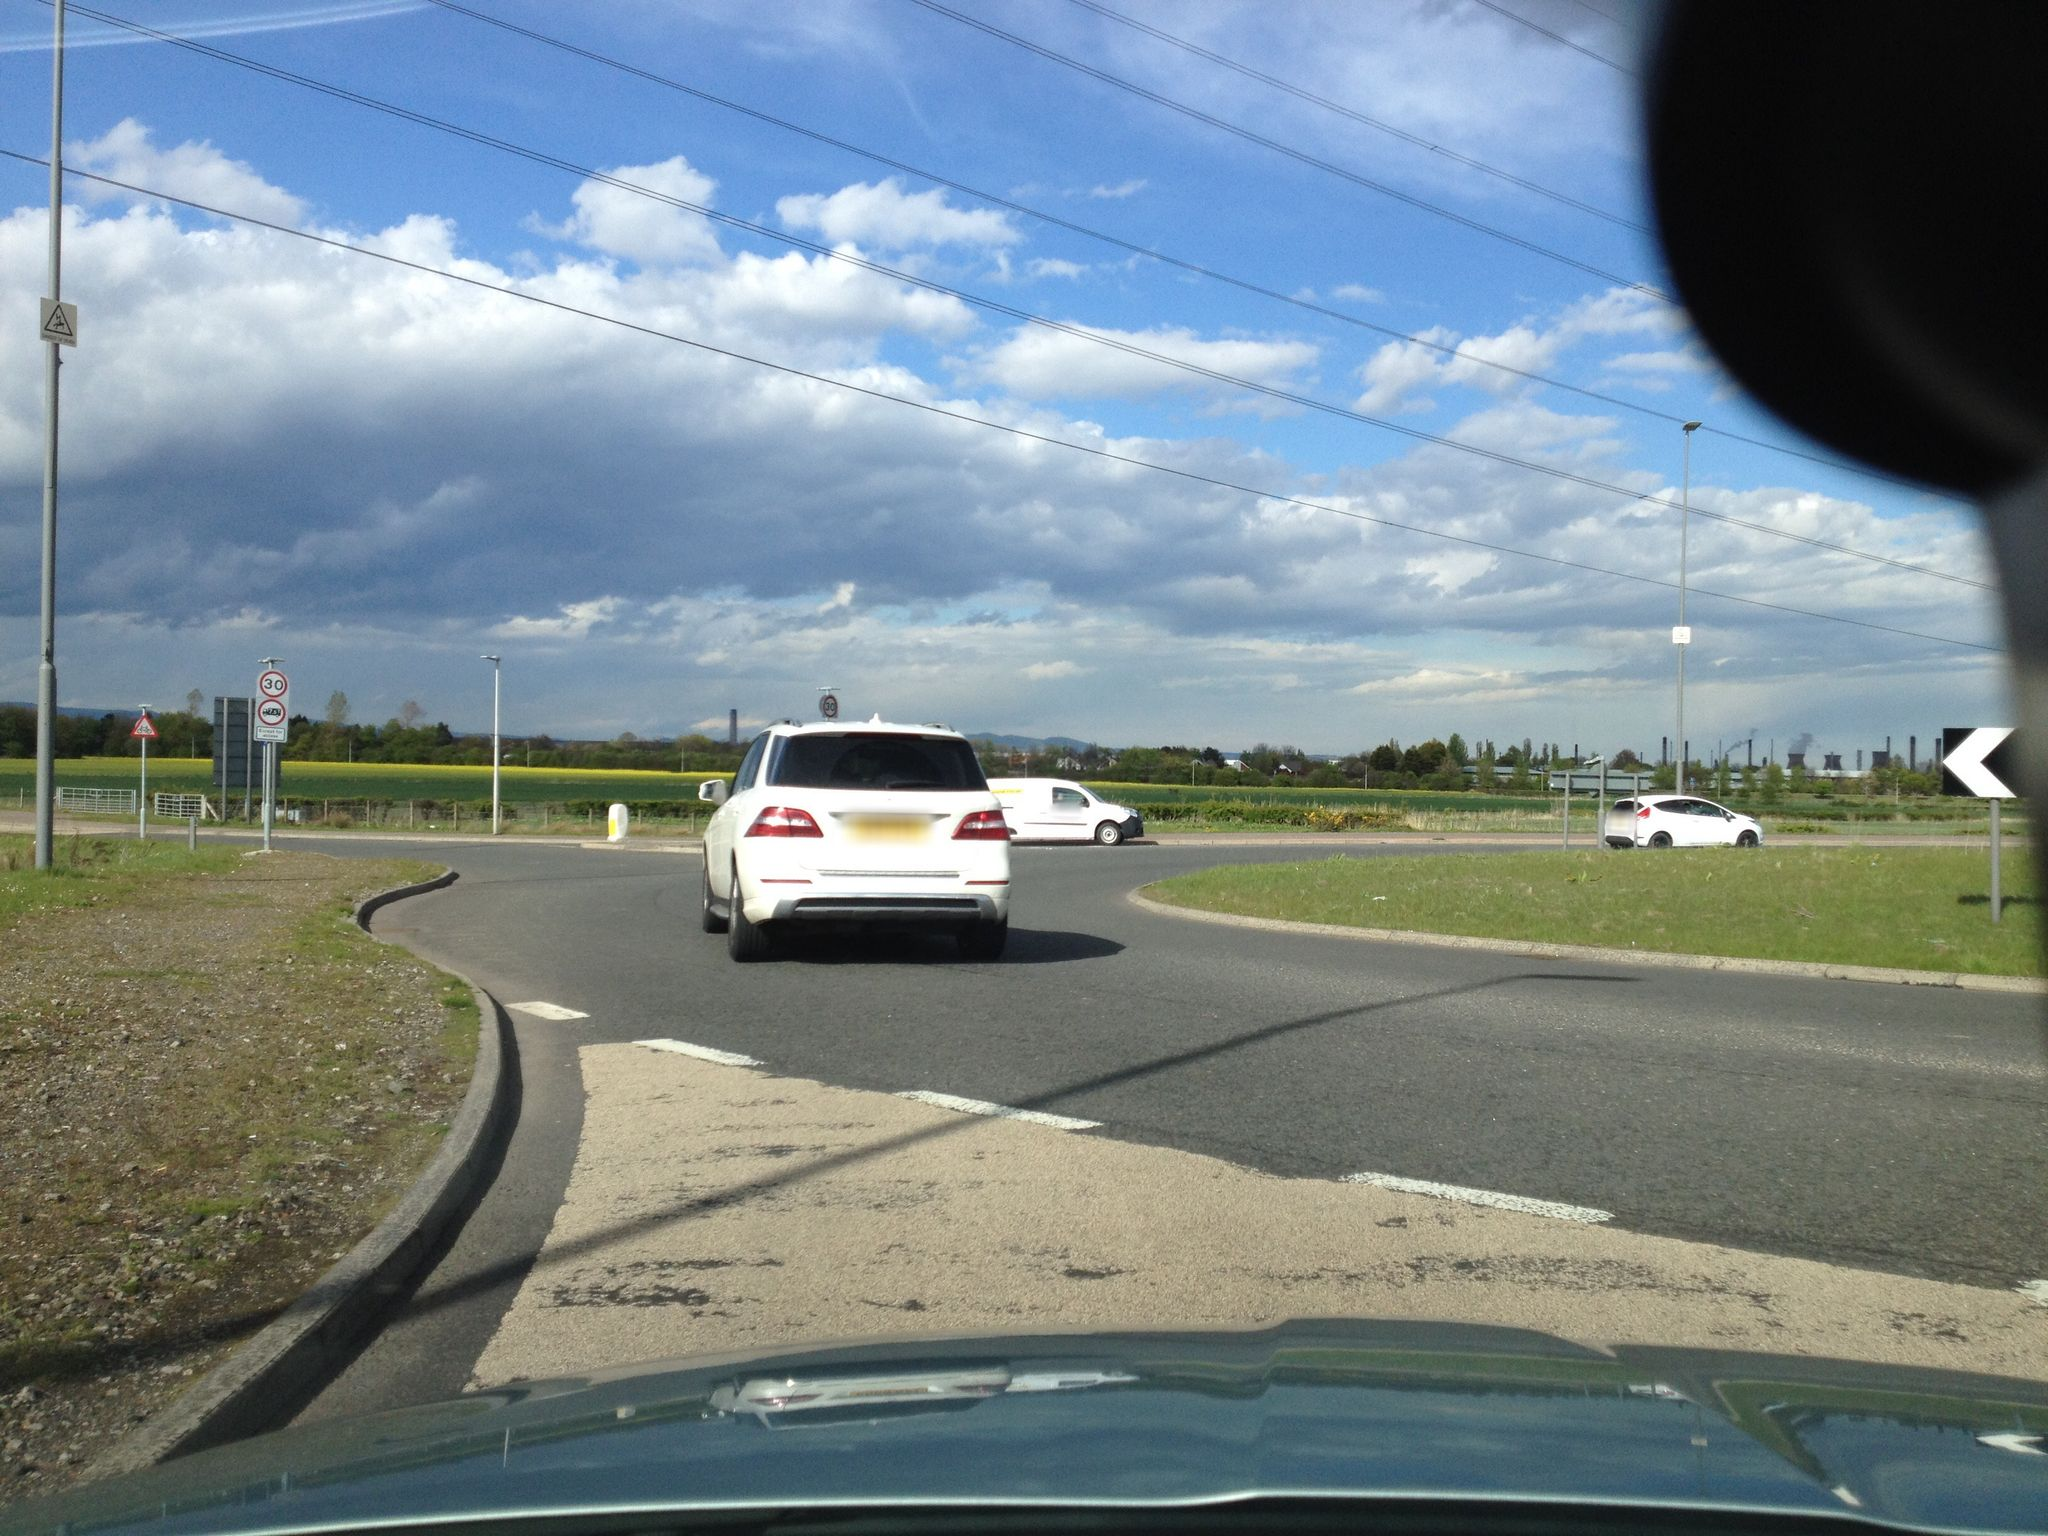car: (695, 712, 1013, 957), (984, 778, 1143, 845), (1603, 794, 1763, 849)
